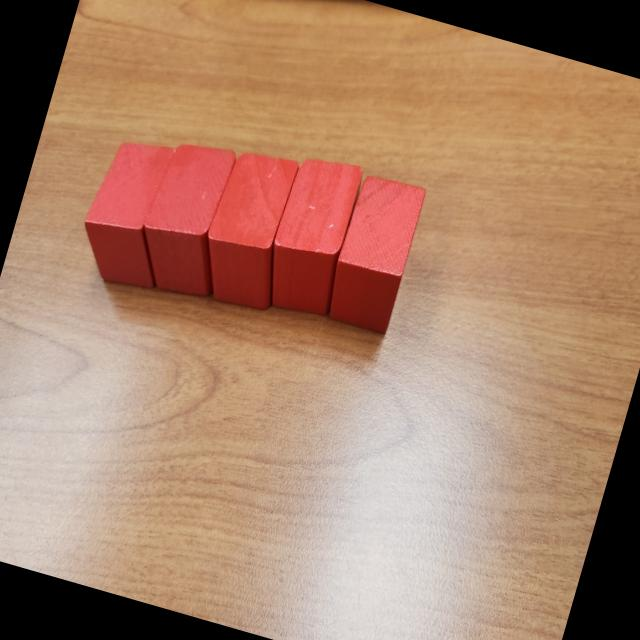red: (125, 130, 254, 306), (187, 140, 310, 320), (68, 129, 194, 298), (255, 148, 367, 322), (320, 170, 428, 336)
